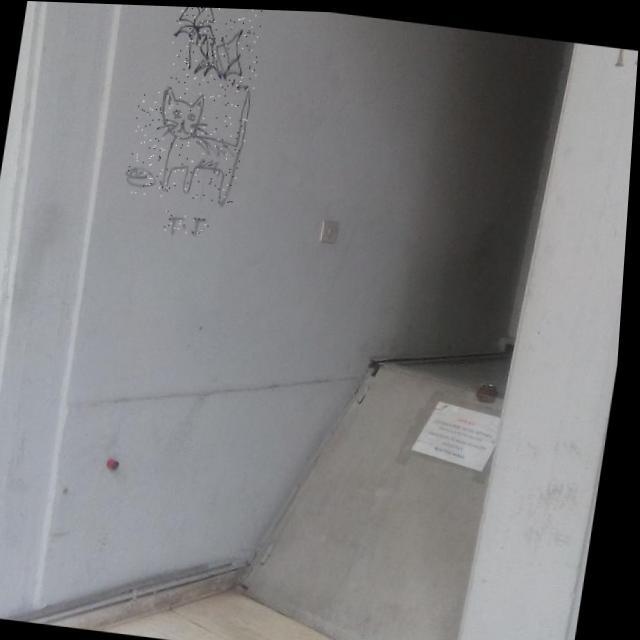-: (127, 81, 253, 203), (165, 5, 266, 91), (165, 208, 212, 236)
